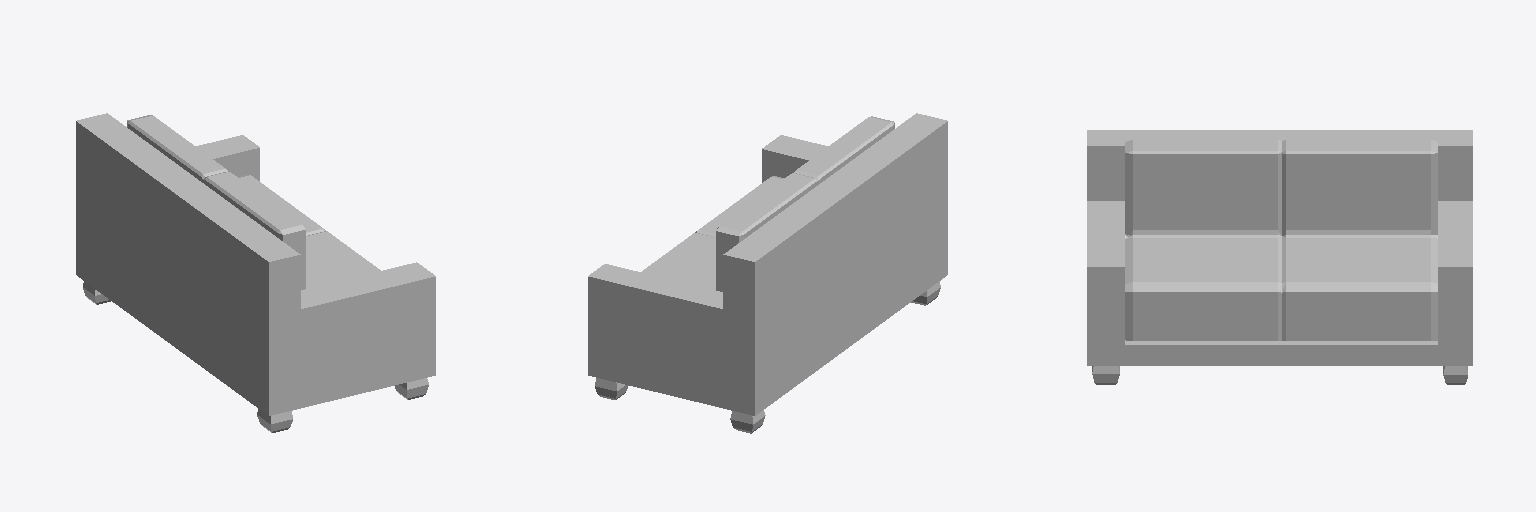
Rendered from Sofa.obj.
The picture shows the model from 3 angles: view 1: azimuth 30°, elevation 25°; view 2: azimuth 150°, elevation 25°; view 3: azimuth 270°, elevation 25°; orthographic projection.
Parts seen in each view (by area): view 1: Cube; view 2: Cube; view 3: Cube.
Boxes of the visible parts, x1,y1,x2,y2 form: Cube: [76, 113, 435, 432]; Cube: [588, 113, 947, 433]; Cube: [1087, 130, 1472, 384].
Bounding box in the file's own units: 300 × 315 × 600.